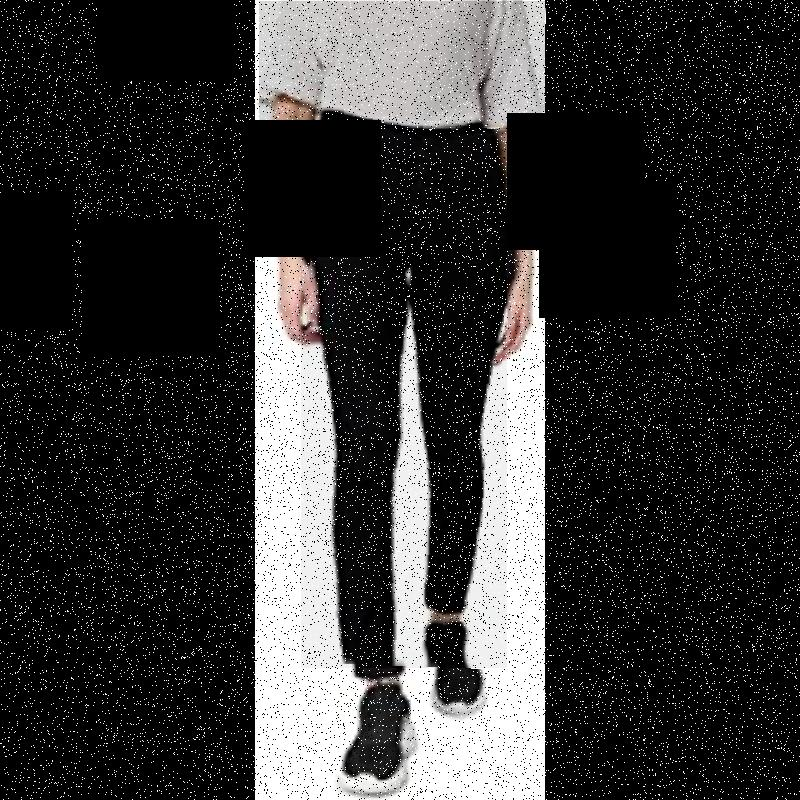Jeans: (301, 96, 507, 668)
Shirt: (259, 1, 545, 127)
